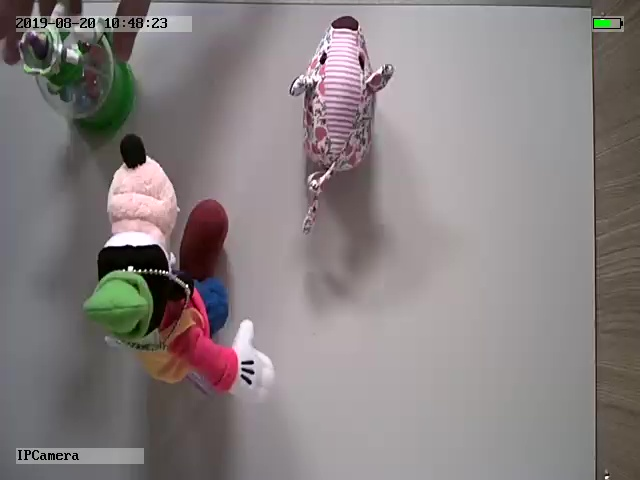buzz: (19, 19, 138, 135)
goofy: (82, 132, 275, 406)
pig: (289, 14, 395, 236)
